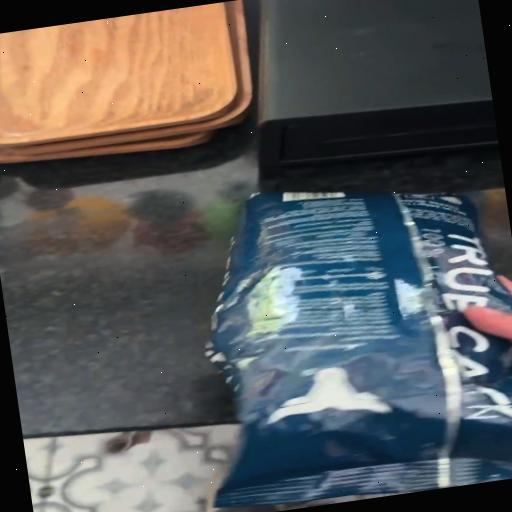cafe_hat: (207, 192, 512, 506)
